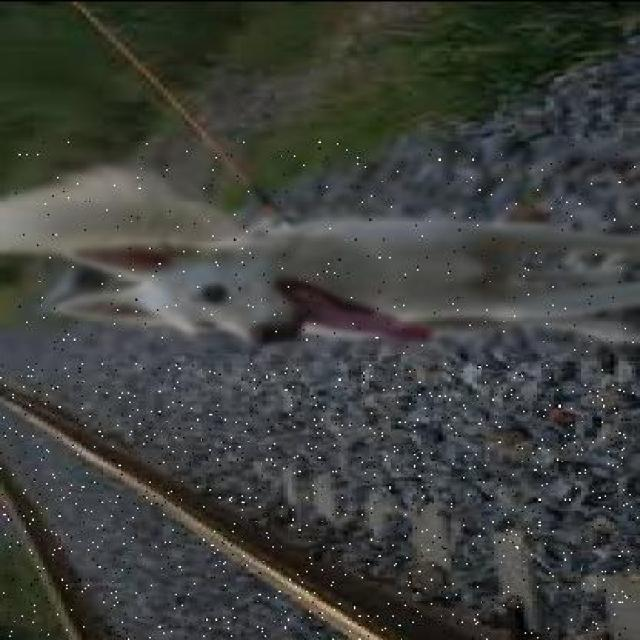rail: (1, 363, 640, 640)
